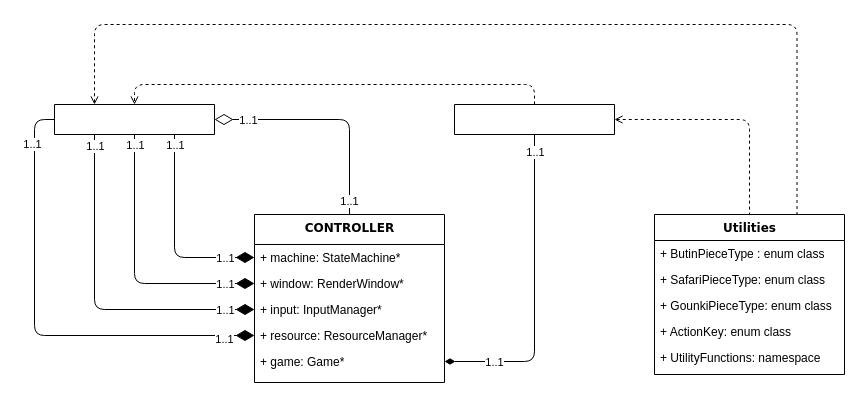
Image size: 862x400. Some labels were removed from this diagram. Each missing label, with the centre of its shape:
"MODEL" belongs at pixel 534 119.
"VIEW" belongs at pixel 134 119.
